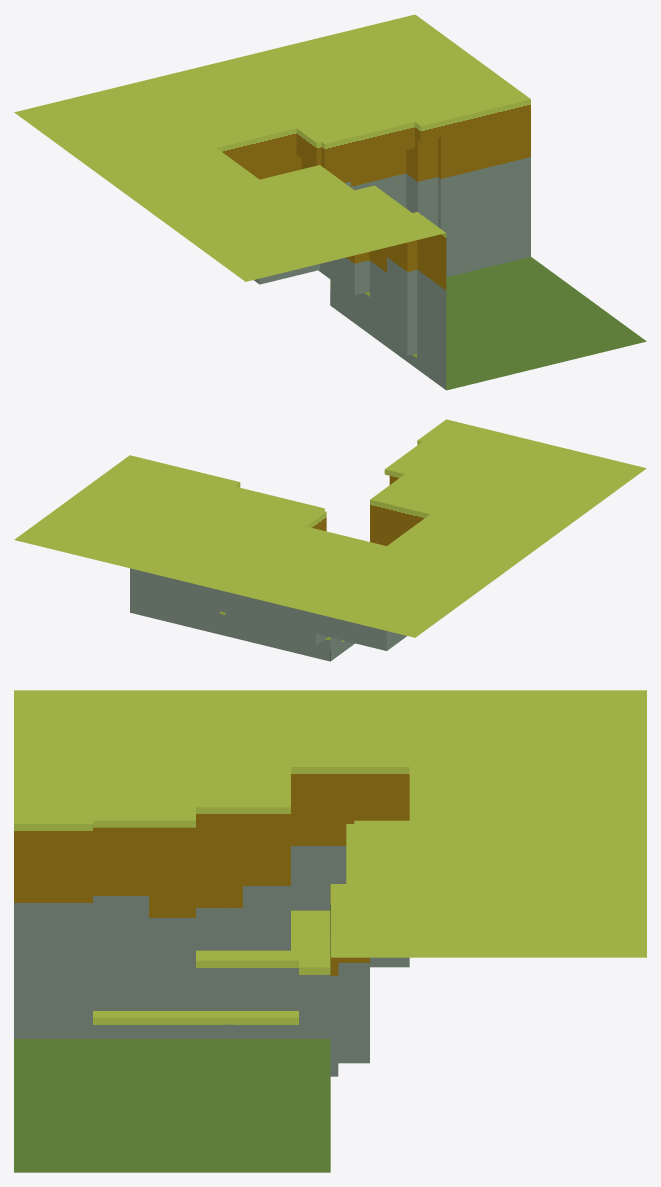
File: MMLM(1).glb
3 renders of one model, top to bottom at view 1: azimuth 30°, elevation 25°; view 2: azimuth 150°, elevation 25°; view 3: azimuth 270°, elevation 25°, orthographic. The views are drawn at different scales.
Parts seen in each view (by area): view 1: model_0.020; view 2: model_0.020; view 3: model_0.020.
Boxes of the visible parts, x1,y1,x2,y2 form: model_0.020: [14, 14, 646, 390]; model_0.020: [14, 419, 646, 661]; model_0.020: [14, 690, 646, 1172].
Size of the model in its own units: 80 by 30 by 80.
1 material, 1 textured.
